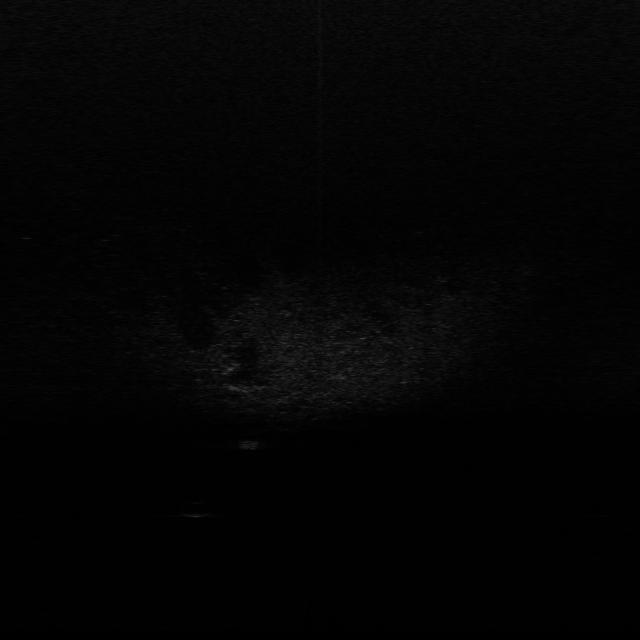ball: (178, 498, 213, 521)
cube: (237, 433, 264, 453)
